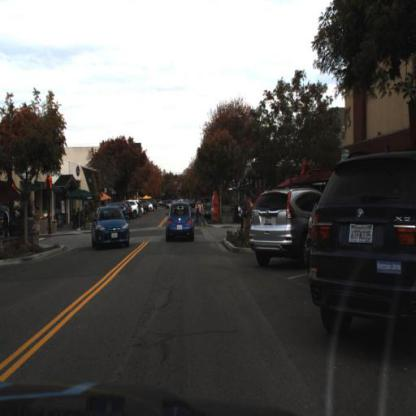car: (307, 148, 416, 345), (247, 184, 310, 274), (89, 205, 133, 254), (165, 197, 197, 248)
pedestrian: (3, 209, 12, 237), (194, 201, 198, 227), (202, 201, 206, 224), (139, 199, 144, 217)
